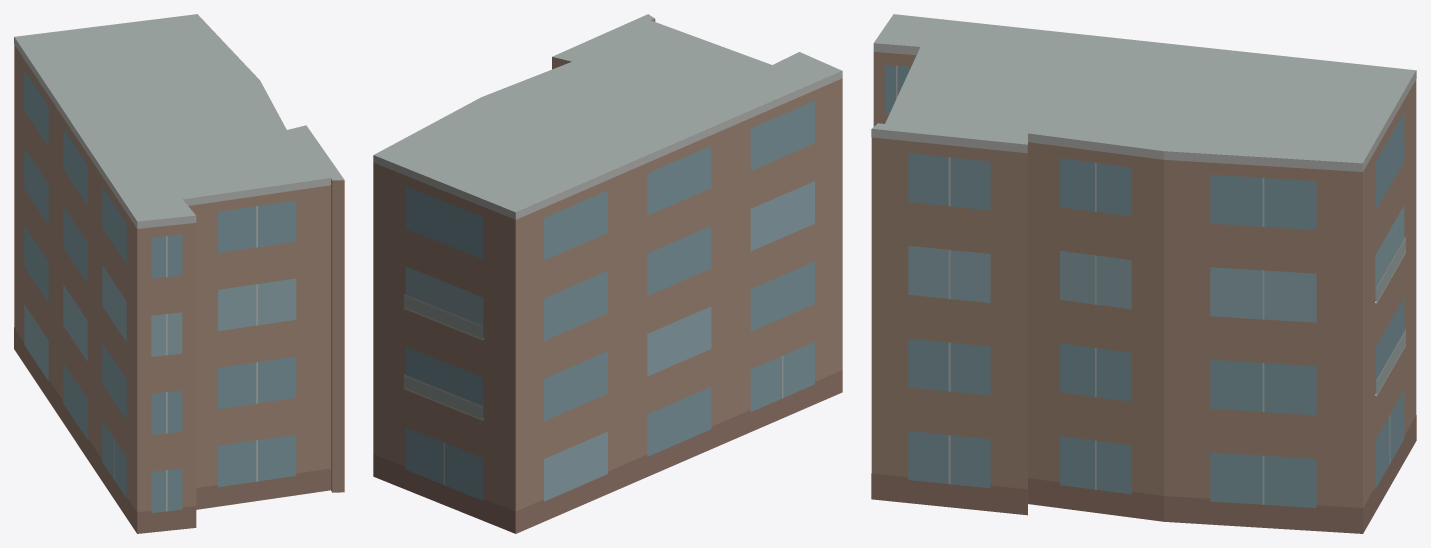
Rendered from survey-upis-32649400.glb.
3 views of the same model, side by side, from view 1: azimuth 30°, elevation 25°; view 2: azimuth 150°, elevation 25°; view 3: azimuth 270°, elevation 25° (orthographic). The views are drawn at different scales.
Parts seen in each view (by area): view 1: survey-upis-32649400.tmp; view 2: survey-upis-32649400.tmp; view 3: survey-upis-32649400.tmp.
Part boxes in pixels (x1,y1,x2,y2): survey-upis-32649400.tmp: (14,14,344,533); survey-upis-32649400.tmp: (373,14,842,533); survey-upis-32649400.tmp: (871,14,1416,533).
Bounding box in the file's own units: 9.09 × 10.5 × 14.
